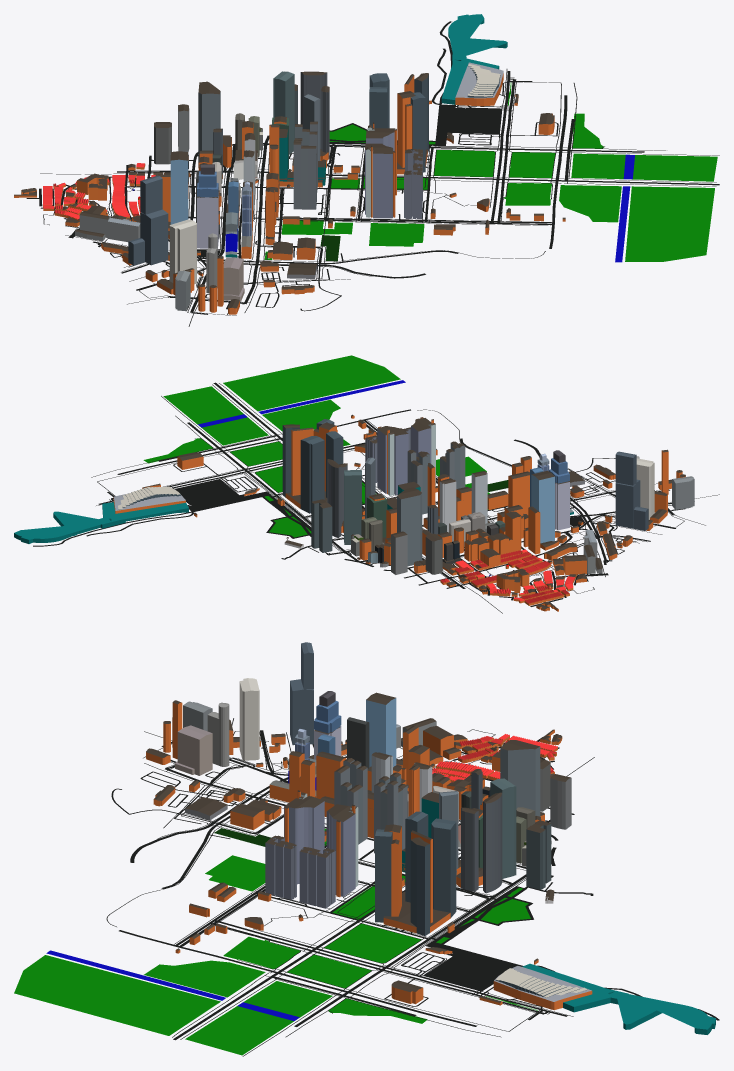
File: Singapour.obj
The picture shows the model from 3 angles, top to bottom: view 1: azimuth 30°, elevation 25°; view 2: azimuth 150°, elevation 25°; view 3: azimuth 270°, elevation 25°; orthographic projection. The views are drawn at different scales.
Visible parts, largest first — view 1: map_7.osm_buildings, map_7.osm_vegetation, map_7.osm_paths_footway, map_7.osm_roads_secondary, map_7.osm_areas_pedestrian, map_7.osm_roads_primary, map_7.osm_roads_service, map_7.osm_paths_cycleway, map_7.osm_roads_trunk, map_7.osm_roads_tertiary, map_7.osm_roads_residential, map_7.osm_water (+1 smaller); view 2: map_7.osm_buildings, map_7.osm_vegetation, map_7.osm_areas_pedestrian, map_7.osm_paths_footway, map_7.osm_roads_secondary, map_7.osm_roads_primary, map_7.osm_roads_pedestrian, map_7.osm_paths_cycleway, map_7.osm_roads_service, map_7.osm_water, map_7.osm_roads_residential; view 3: map_7.osm_buildings, map_7.osm_vegetation, map_7.osm_paths_footway, map_7.osm_roads_secondary, map_7.osm_areas_pedestrian, map_7.osm_roads_primary, map_7.osm_paths_cycleway, map_7.osm_roads_service, map_7.osm_water, map_7.osm_roads_pedestrian, map_7.osm_roads_tertiary.
Part boxes in pixels (box(x1,y1,x2,y2)): map_7.osm_buildings: box(14, 14, 565, 314); map_7.osm_vegetation: box(264, 82, 717, 261); map_7.osm_paths_footway: box(40, 69, 604, 326); map_7.osm_roads_secondary: box(39, 71, 558, 267); map_7.osm_areas_pedestrian: box(197, 104, 501, 257); map_7.osm_roads_primary: box(117, 95, 719, 185); map_7.osm_roads_service: box(52, 82, 558, 311); map_7.osm_paths_cycleway: box(67, 81, 719, 289); map_7.osm_roads_trunk: box(190, 135, 269, 312); map_7.osm_roads_tertiary: box(206, 146, 433, 284); map_7.osm_roads_residential: box(26, 78, 532, 314); map_7.osm_water: box(132, 154, 634, 262); map_7.osm_buildings: box(14, 414, 694, 611); map_7.osm_vegetation: box(143, 355, 490, 537); map_7.osm_areas_pedestrian: box(175, 479, 584, 538); map_7.osm_paths_footway: box(96, 409, 719, 613); map_7.osm_roads_secondary: box(98, 409, 608, 606); map_7.osm_roads_primary: box(117, 382, 465, 588); map_7.osm_roads_pedestrian: box(33, 494, 459, 588); map_7.osm_paths_cycleway: box(91, 383, 673, 590); map_7.osm_roads_service: box(173, 458, 685, 597); map_7.osm_water: box(198, 380, 491, 575); map_7.osm_roads_residential: box(107, 489, 675, 605); map_7.osm_buildings: box(146, 642, 715, 1034); map_7.osm_vegetation: box(14, 828, 537, 1055); map_7.osm_paths_footway: box(106, 718, 594, 1016); map_7.osm_roads_secondary: box(119, 747, 567, 1016); map_7.osm_areas_pedestrian: box(424, 886, 532, 990); map_7.osm_roads_primary: box(173, 847, 556, 1040); map_7.osm_paths_cycleway: box(172, 730, 537, 1056); map_7.osm_roads_service: box(111, 747, 553, 1009); map_7.osm_water: box(46, 950, 299, 1020); map_7.osm_roads_pedestrian: box(359, 820, 719, 1020); map_7.osm_roads_tertiary: box(209, 765, 489, 939).
Size of the model in its own units: 46.77 by 6.62 by 41.2.
